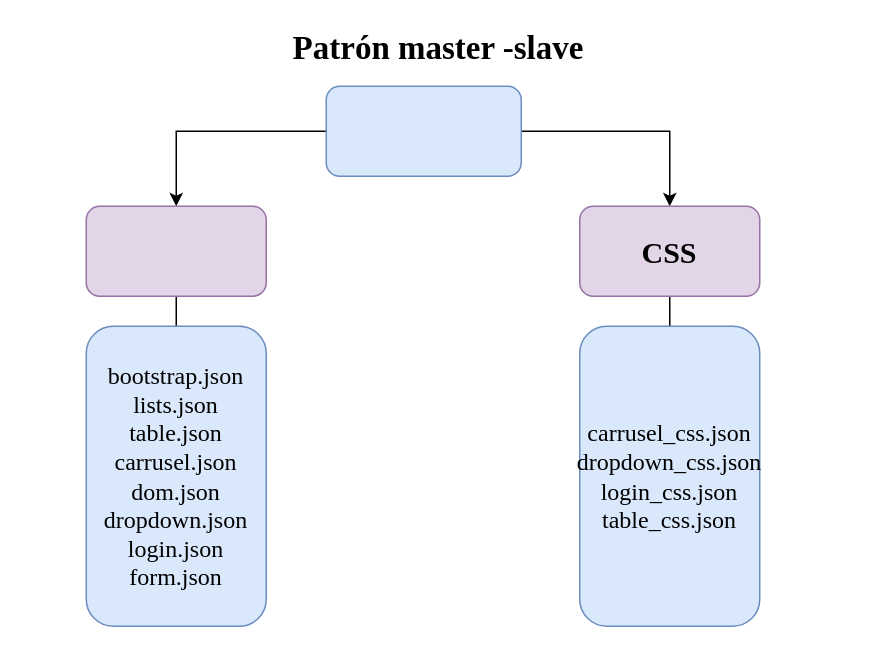
The diagram is 876 pixels wide and 653 high, and some of its shapes have lost their labels. The box of each missing label's shape, as (x1, y1, x2, y2) in pixels:
HTML: (85, 205, 266, 296)
package.json: (325, 85, 521, 176)
